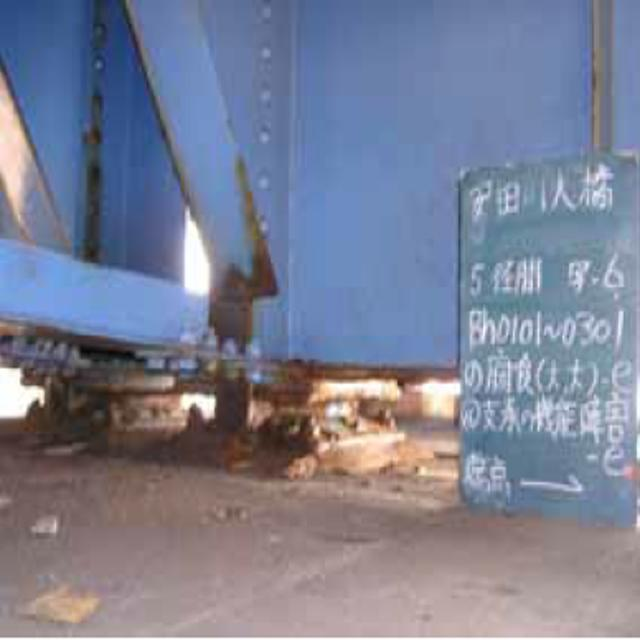corrosion: (147, 202, 347, 494)
